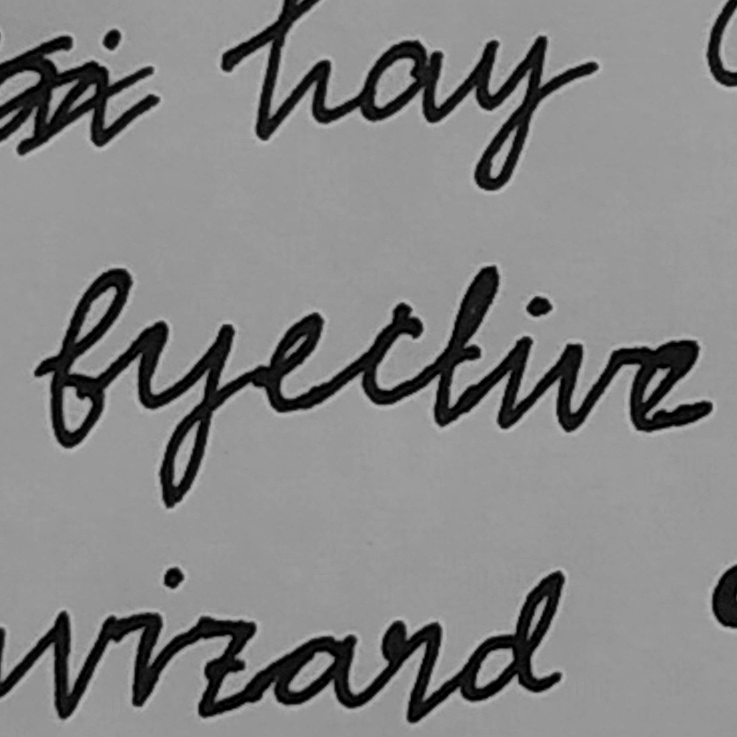b: (26, 264, 139, 450)
c: (351, 299, 426, 413)
e: (626, 334, 715, 438), (257, 305, 336, 417)
i: (495, 290, 548, 434), (127, 314, 175, 414)
j: (153, 318, 243, 514)
t: (428, 260, 503, 431)
v: (549, 335, 625, 437)
